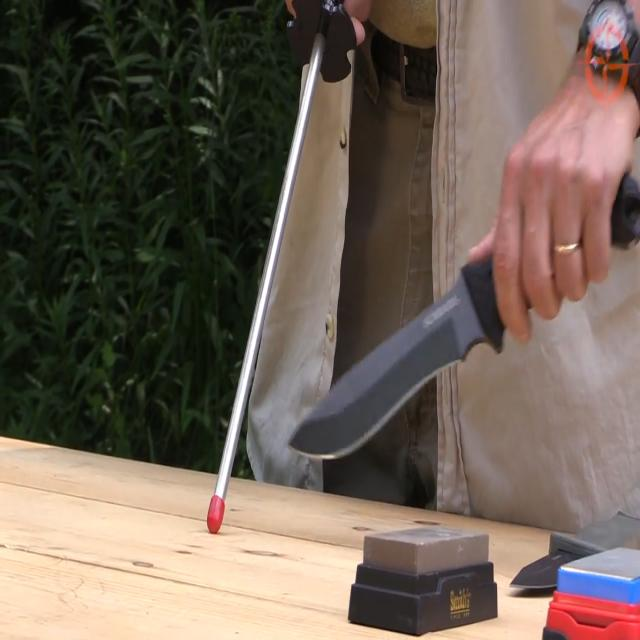knife: (284, 260, 490, 475)
